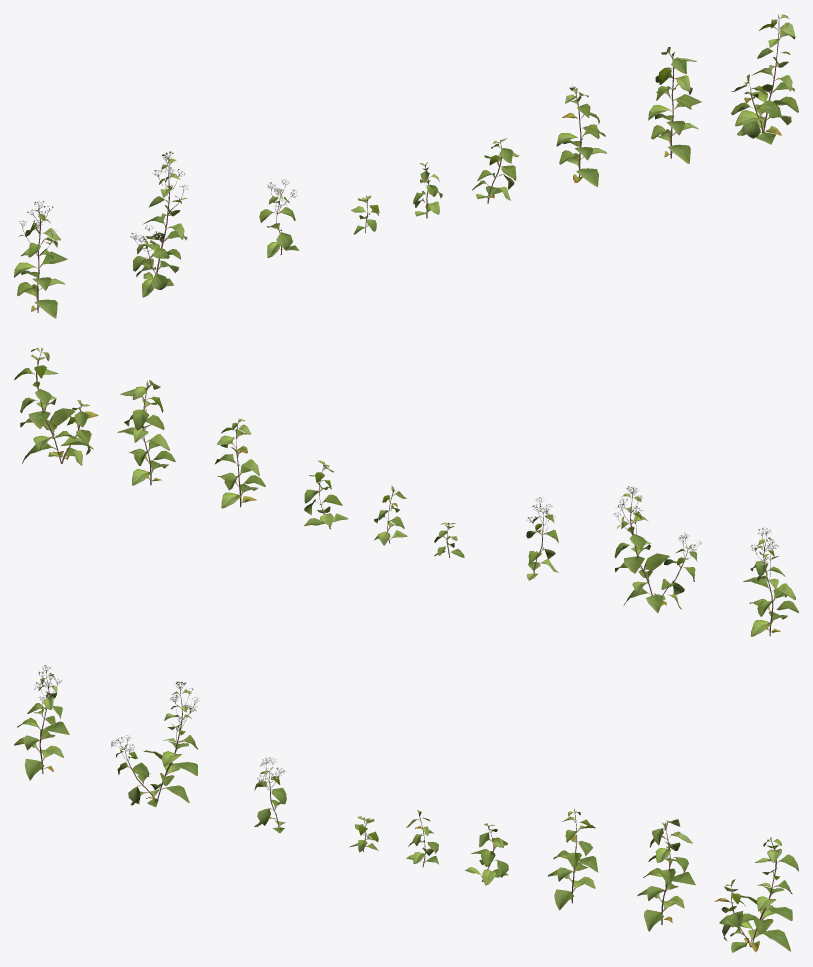
Rendered from shrub_01.glb.
The picture shows the model from 3 angles, top to bottom: view 1: azimuth 30°, elevation 25°; view 2: azimuth 150°, elevation 25°; view 3: azimuth 330°, elevation 25°; orthographic projection. The views are drawn at different scales.
Parts seen in each view (by area): view 1: shrub_01_a; view 2: shrub_01_a; view 3: shrub_01_a.
Part boxes in pixels (box(x1,y1,x2,y2)): shrub_01_a: box(14, 14, 798, 318); shrub_01_a: box(14, 347, 798, 636); shrub_01_a: box(14, 665, 798, 952).
Bounding box in the file's own units: 2.59 × 0.3954 × 0.2158.
1 material, 1 textured.
